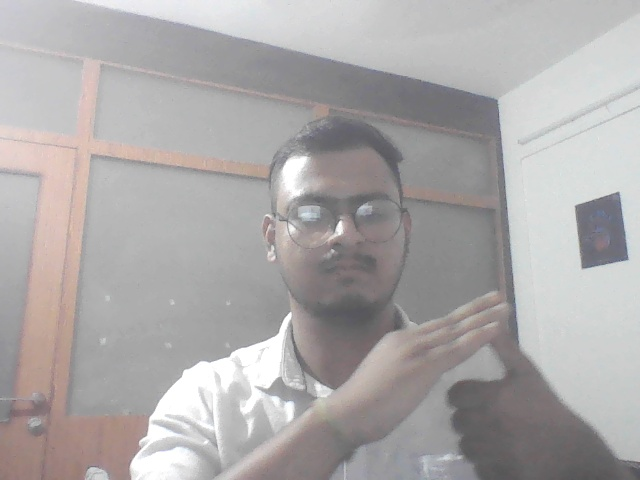I Feel You: (361, 274, 558, 472)
